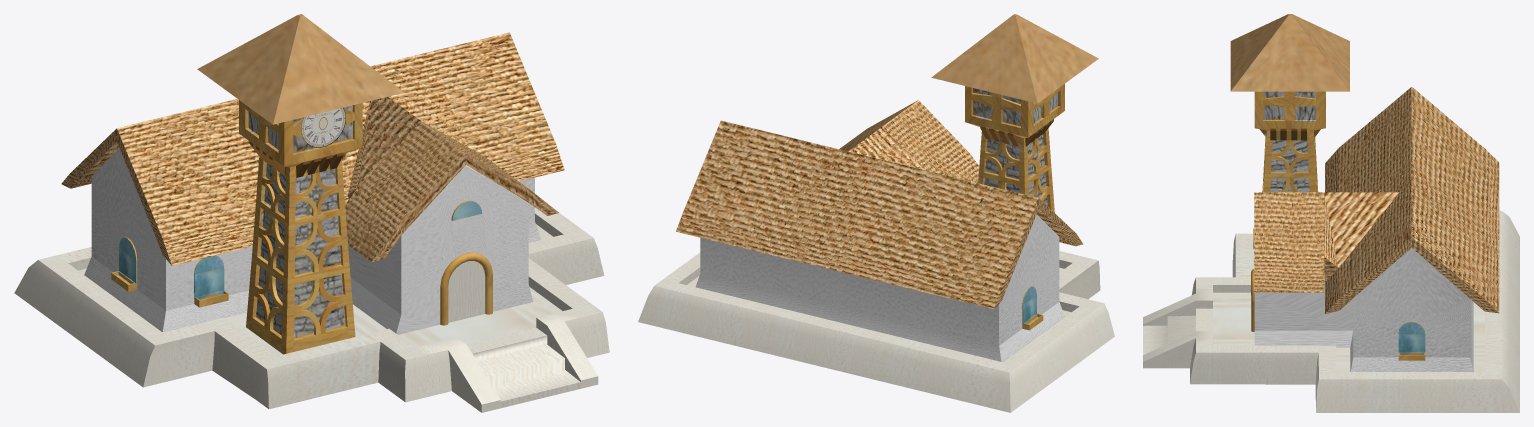
The model's file is TownHallMesh.fbx.
3 views of the same model, side by side, from view 1: azimuth 30°, elevation 25°; view 2: azimuth 150°, elevation 25°; view 3: azimuth 270°, elevation 25° (orthographic). The views are drawn at different scales.
Visible parts, largest first — view 1: obj_TownHall; view 2: obj_TownHall; view 3: obj_TownHall.
Boxes of the visible parts, bbox=[...] form: obj_TownHall: bbox=[14, 14, 609, 412]; obj_TownHall: bbox=[638, 14, 1114, 412]; obj_TownHall: bbox=[1143, 14, 1519, 412].
Size of the model in its own units: 1210 by 880 by 1092.
